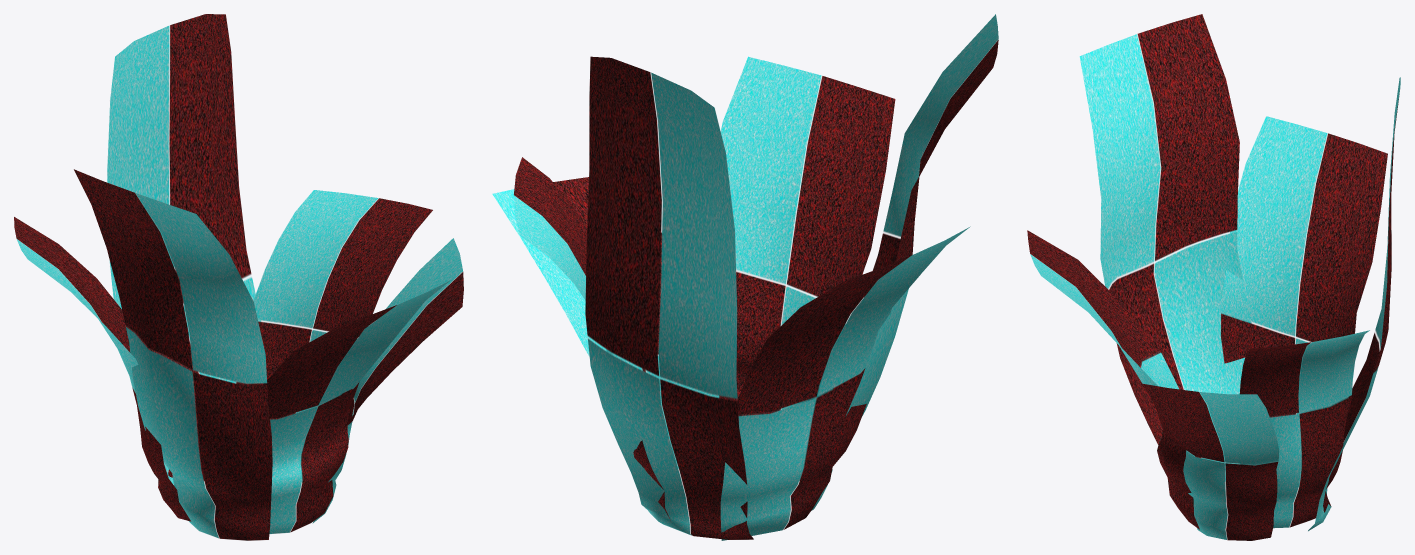
3 renders of one model, left to right at view 1: azimuth 30°, elevation 25°; view 2: azimuth 150°, elevation 25°; view 3: azimuth 270°, elevation 25°, orthographic. The views are drawn at different scales.
Visible parts, largest first — view 1: SM_VFX_AnimaWell_LOD0; view 2: SM_VFX_AnimaWell_LOD0; view 3: SM_VFX_AnimaWell_LOD0.
Part boxes in pixels (bbox=[...]): SM_VFX_AnimaWell_LOD0: bbox=[14, 14, 463, 540]; SM_VFX_AnimaWell_LOD0: bbox=[492, 14, 998, 540]; SM_VFX_AnimaWell_LOD0: bbox=[1027, 14, 1400, 540].
Bounding box in the file's own units: 4.59 × 4.54 × 3.59.
Materials: 1 (1 with a texture image).
